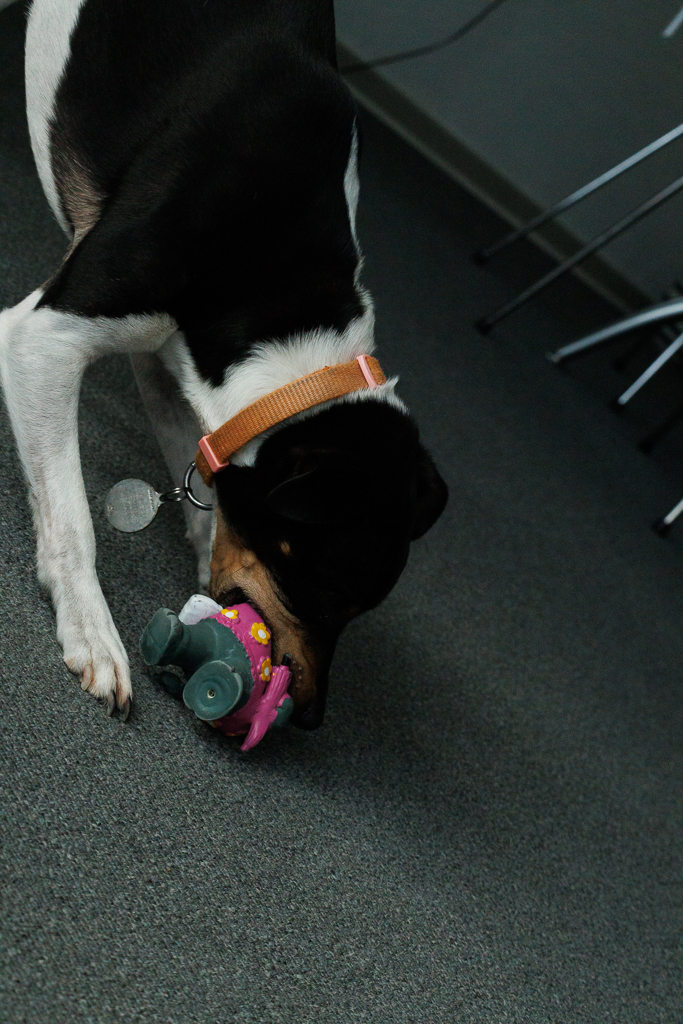Dog: (0, 0, 461, 733)
Humanoid: (132, 577, 325, 760)
